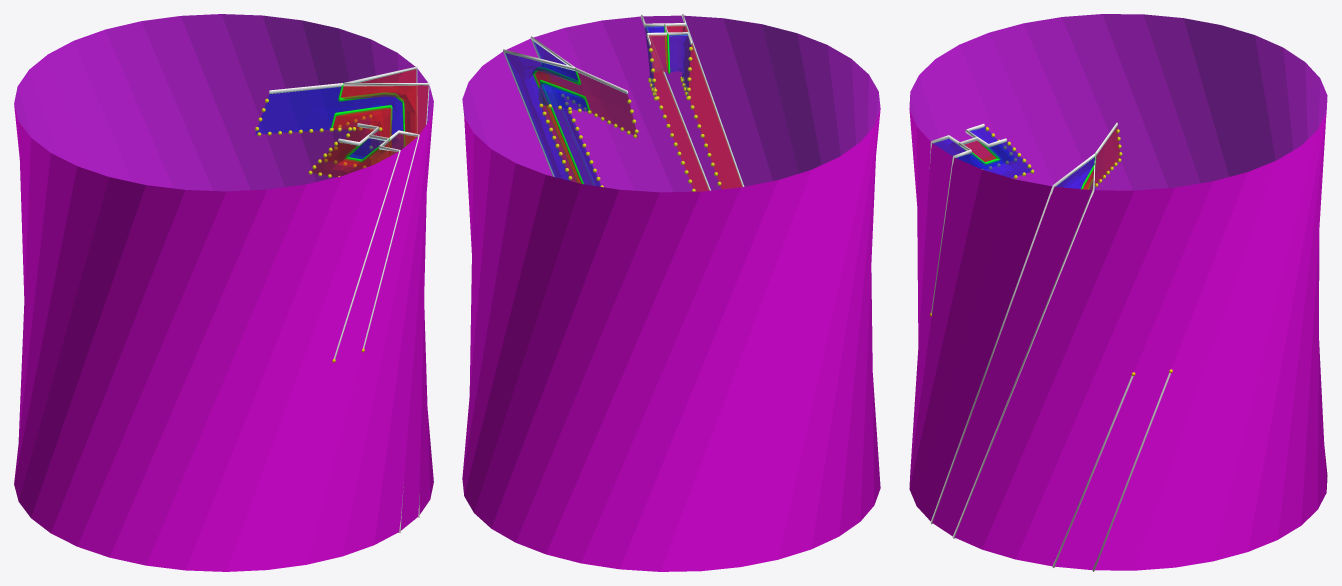
The model's file is cylinder_snake_after_glb.glb.
The picture shows the model from 3 angles, left to right: view 1: azimuth 30°, elevation 25°; view 2: azimuth 150°, elevation 25°; view 3: azimuth 270°, elevation 25°; orthographic projection.
Visible parts, largest first — view 1: Circle, fold, boundary, singular locus, Circle.001; view 2: Circle, fold, boundary, Circle.001, singular locus; view 3: Circle, boundary, fold.
Part boxes in pixels (bbox=[...]): Circle: bbox=[14, 14, 433, 571]; fold: bbox=[255, 69, 428, 177]; boundary: bbox=[269, 66, 429, 532]; singular locus: bbox=[331, 83, 405, 162]; Circle.001: bbox=[255, 98, 382, 362]; Circle: bbox=[462, 15, 880, 571]; fold: bbox=[505, 25, 742, 191]; boundary: bbox=[503, 14, 744, 190]; Circle.001: bbox=[539, 47, 721, 191]; singular locus: bbox=[533, 25, 670, 184]; Circle: bbox=[909, 14, 1327, 570]; boundary: bbox=[929, 122, 1170, 571]; fold: bbox=[934, 127, 1120, 190].
Size of the model in its own units: 3.99 by 4.04 by 3.99.
